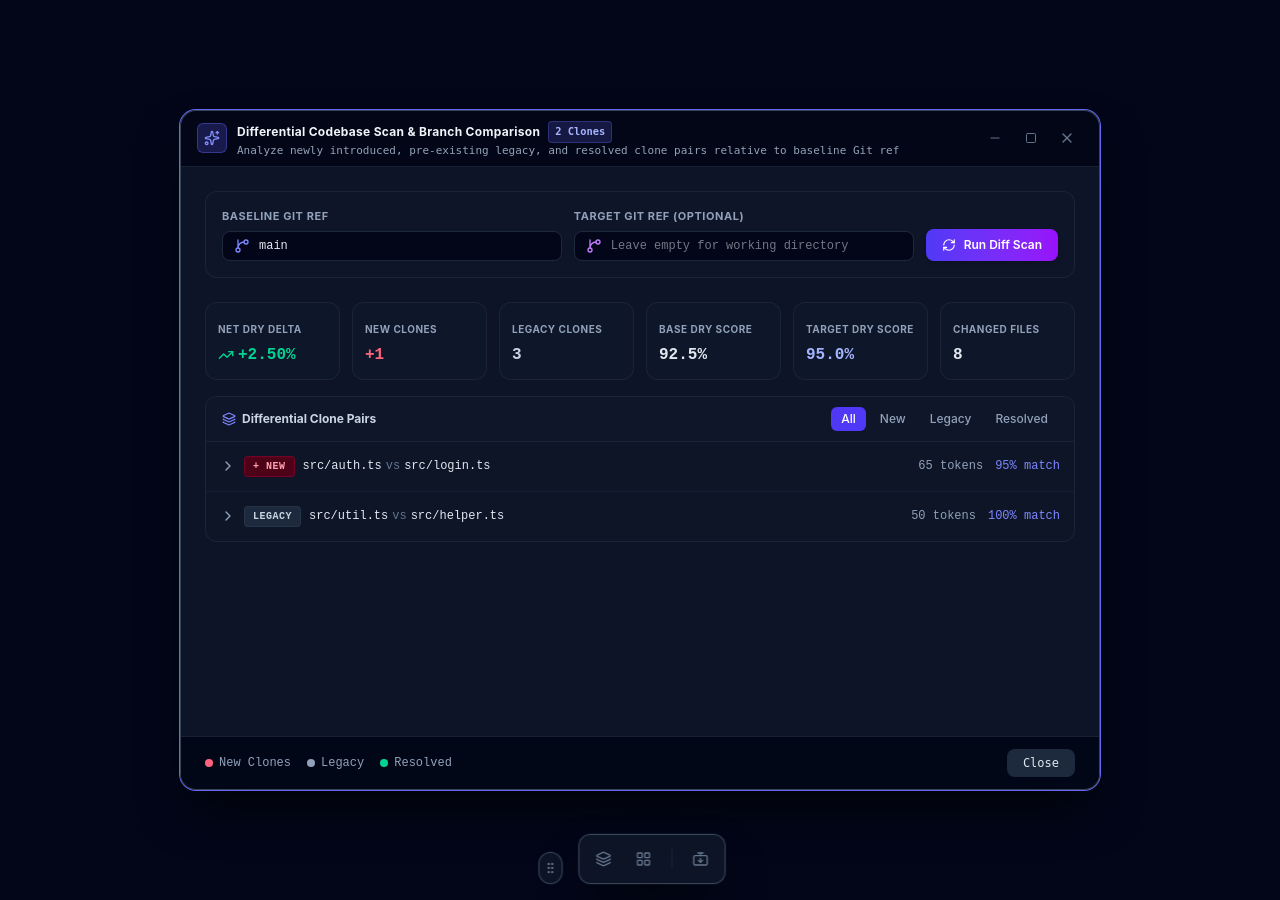
DiffScanResultsModal › should render clone pairs and support status filtering
The width and height of the screenshot is (1280, 900).
Check: the text "src/auth.ts" is shown, box [302,459,382,473]
Check: the text "src/util.ts" is shown, box [309,509,388,523]
Filter to New only
Click the button "New". click: {"x": 893, "y": 418}
box: [870,406,916,430]
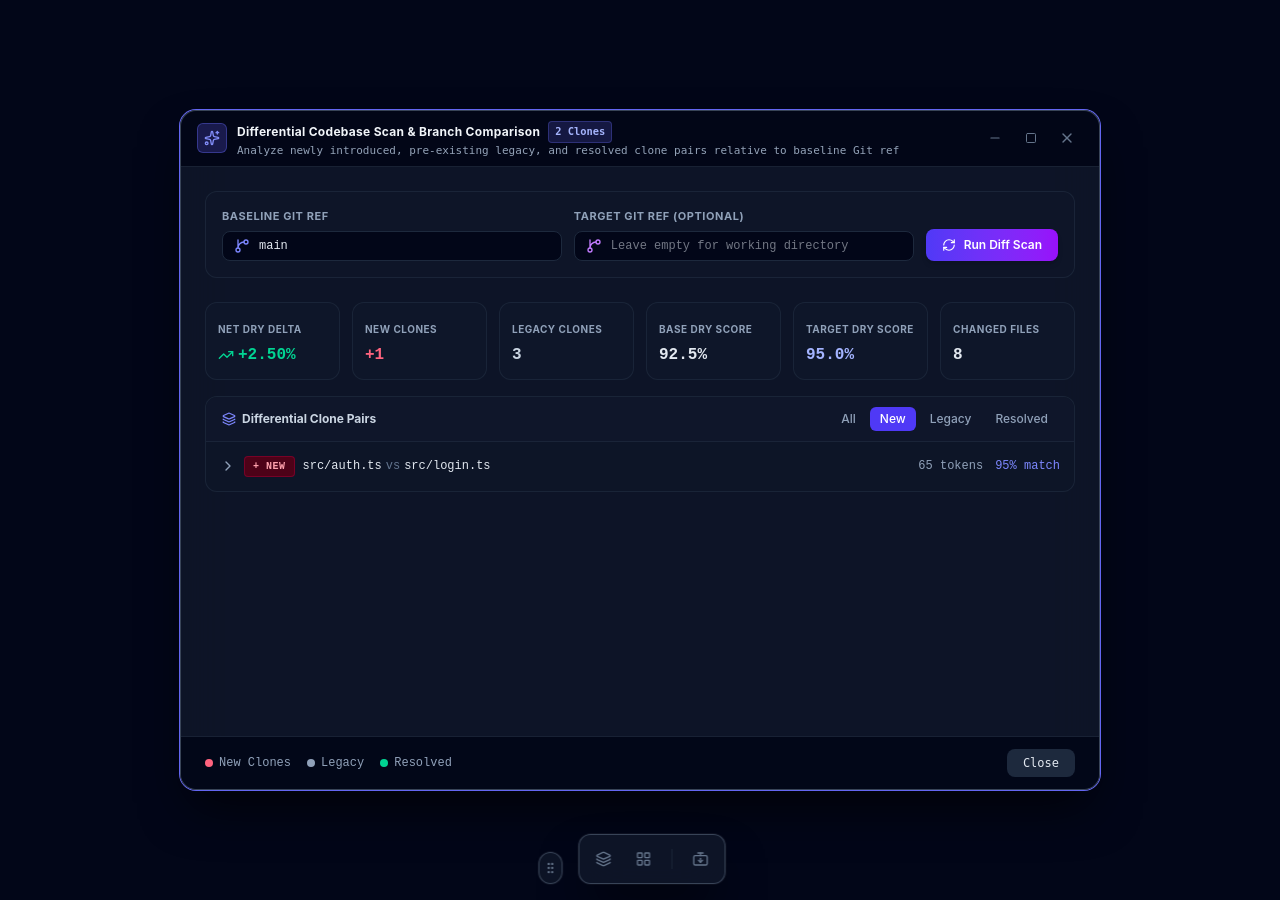
Check: the text "src/auth.ts" is shown, box [302,459,382,473]
Check: the text "src/util.ts" is gone
